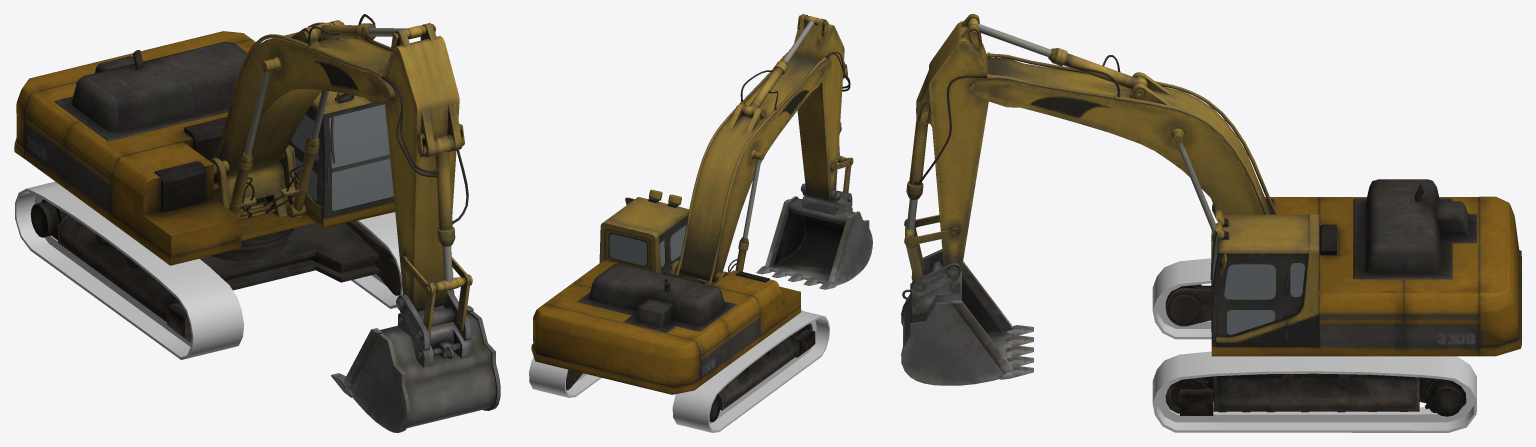
The picture shows the model from 3 angles, left to right: view 1: azimuth 30°, elevation 25°; view 2: azimuth 150°, elevation 25°; view 3: azimuth 270°, elevation 25°; orthographic projection. The views are drawn at different scales.
Parts seen in each view (by area): view 1: Arm_LOD0, Body_LOD0, Track_LOD0, Windows_LOD0; view 2: Arm_LOD0, Body_LOD0, Track_LOD0, Windows_LOD0; view 3: Arm_LOD0, Body_LOD0, Track_LOD0, Windows_LOD0.
Boxes of the visible parts, bbox=[...] form: Arm_LOD0: bbox=[209, 14, 500, 432]; Body_LOD0: bbox=[14, 31, 400, 342]; Track_LOD0: bbox=[15, 181, 453, 359]; Windows_LOD0: bbox=[291, 104, 393, 210]; Arm_LOD0: bbox=[599, 14, 872, 289]; Body_LOD0: bbox=[531, 260, 815, 422]; Track_LOD0: bbox=[529, 310, 829, 432]; Windows_LOD0: bbox=[609, 225, 686, 266]; Arm_LOD0: bbox=[901, 14, 1319, 385]; Body_LOD0: bbox=[1165, 179, 1521, 416]; Track_LOD0: bbox=[1152, 258, 1476, 432]; Windows_LOD0: bbox=[1212, 233, 1304, 334].
Bounding box in the file's own units: 5.37 × 7.53 × 12.09.
